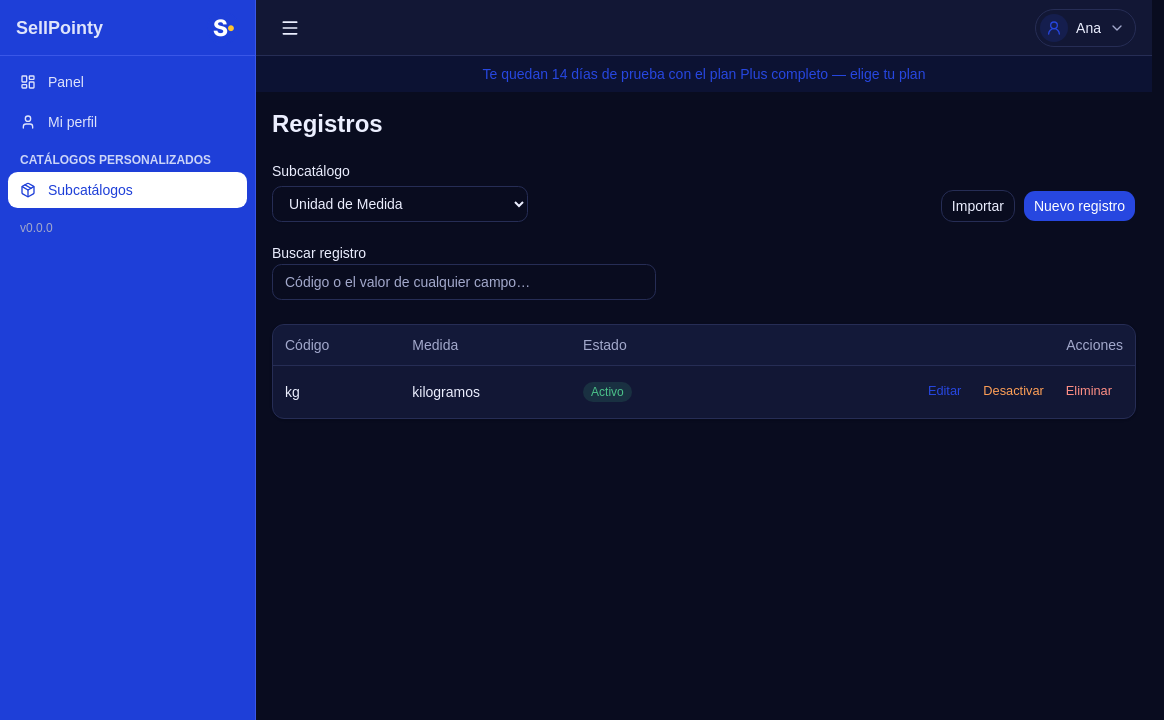
Test: Registros de subcatálogos (F2-SUBCAT) › el 409 al archivar un registro referenciado se muestra y la fila NO desaparece
What coordinates should you click on to do the following:
click the button "Desactivar"
I would click on:
 (1014, 392)
Its box is [972,378,1055,406].
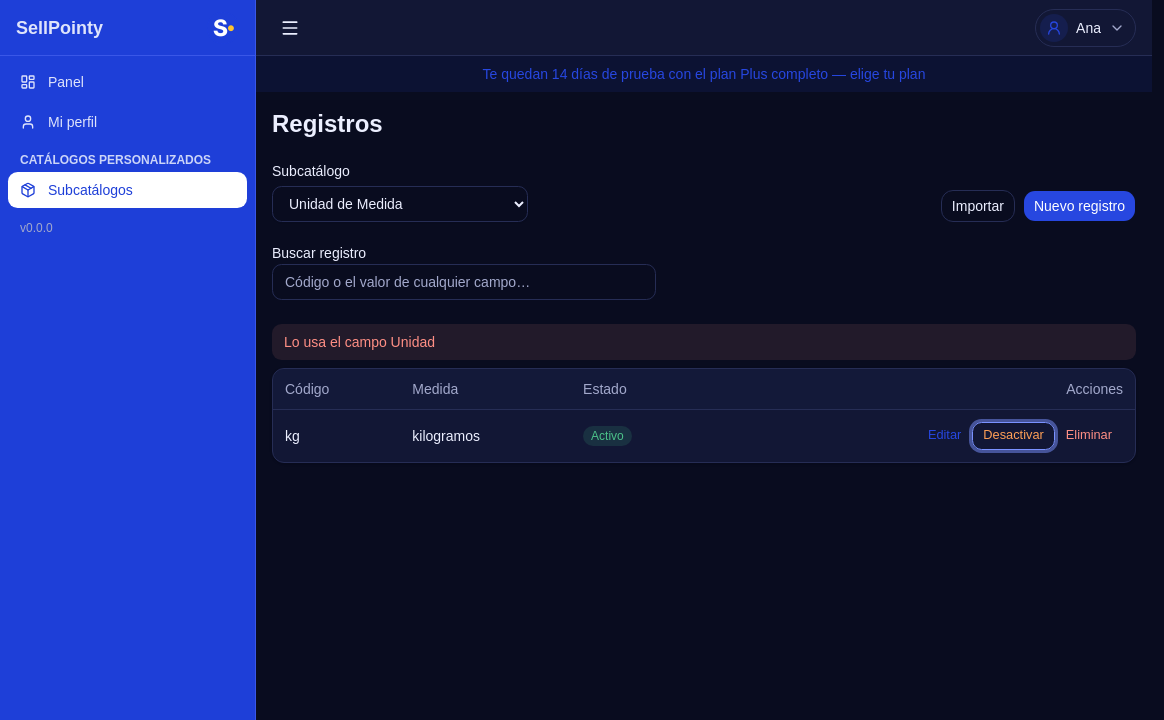
Expected: the row with test id "record-kg" is shown, [273,409,1135,462]
Now the message with test id "records-error" reads "Lo usa el campo Unidad", box [284,334,435,350]
